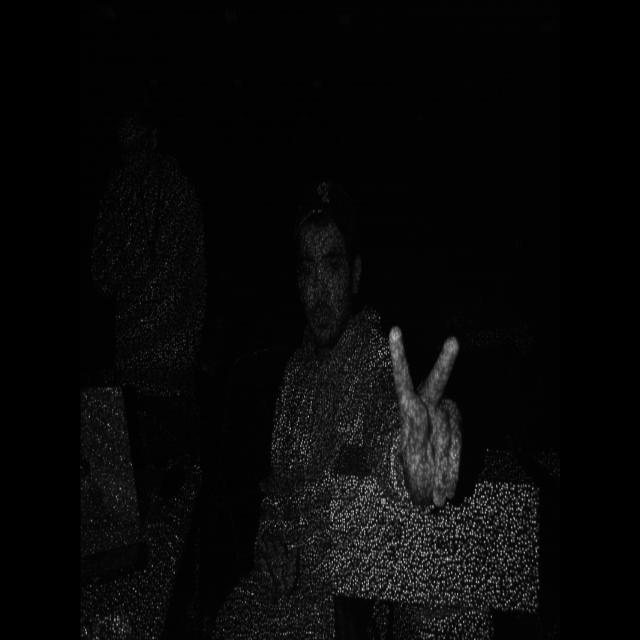K: (377, 308, 470, 517)
